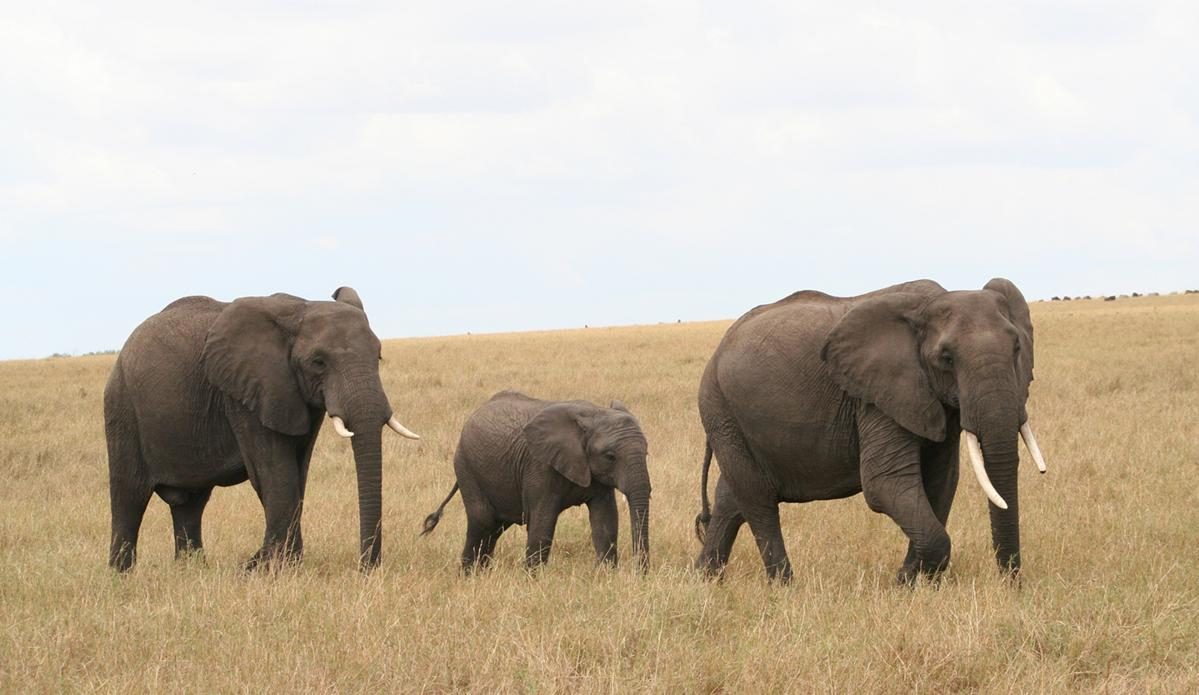Elephant: (92, 241, 423, 582)
